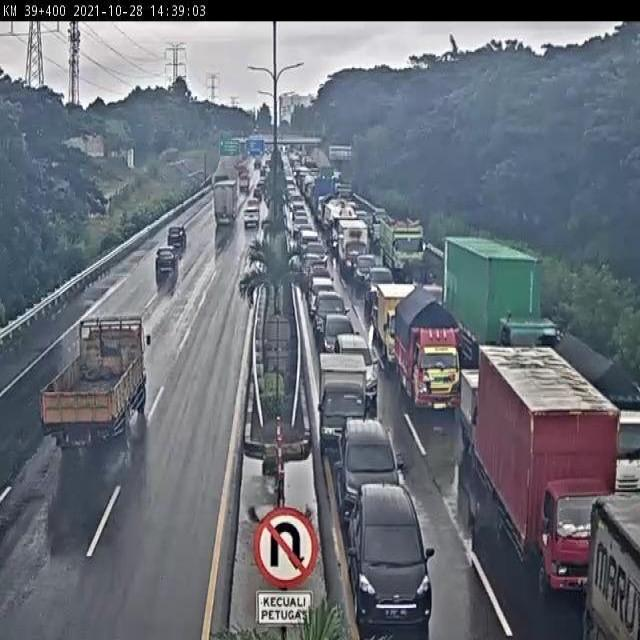car: (350, 484, 438, 633)
small truck: (475, 341, 617, 572), (36, 313, 150, 444)
